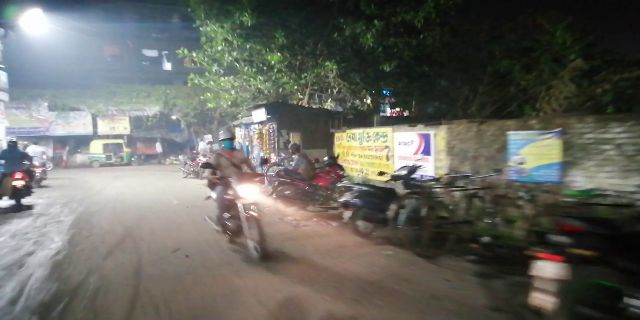Autorickshaw: (89, 136, 139, 171)
Motorbike: (203, 129, 281, 258), (1, 134, 36, 209)
